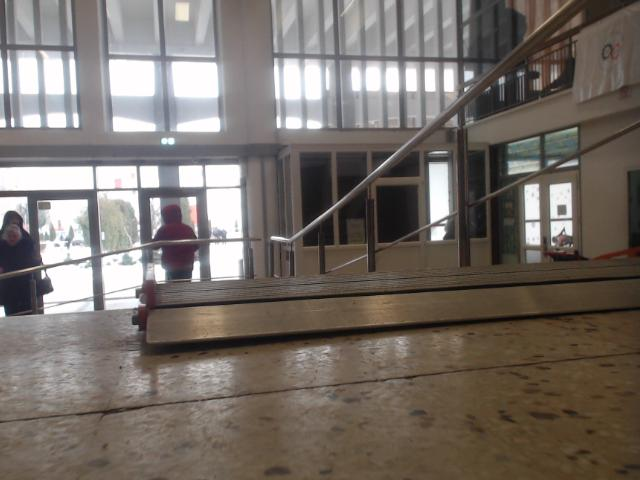rampDown: (146, 258, 639, 344)
ramps-railing: (270, 0, 589, 275), (469, 120, 639, 207), (433, 127, 472, 266), (376, 211, 458, 251), (77, 240, 222, 260), (47, 262, 76, 267), (227, 239, 261, 242)
